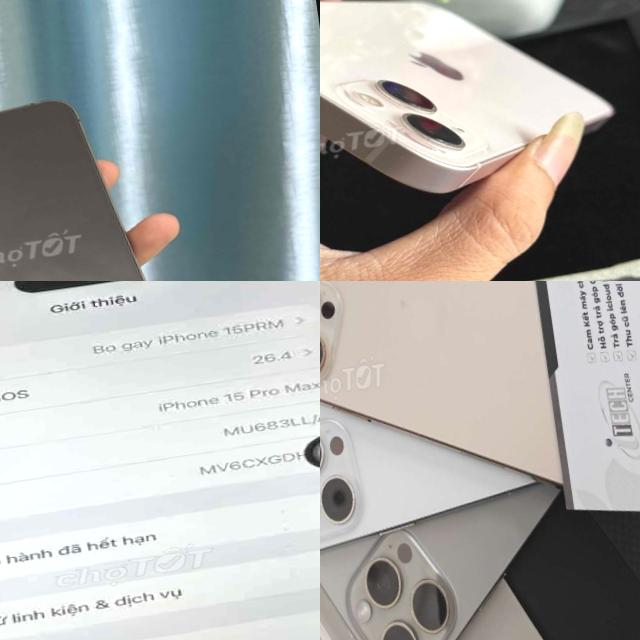gen_12_13: (320, 0, 628, 229), (0, 88, 198, 281)
gen_15: (0, 281, 320, 640)
gen_16: (320, 281, 583, 530)
